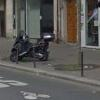Motorcycle: (7, 27, 54, 65)
